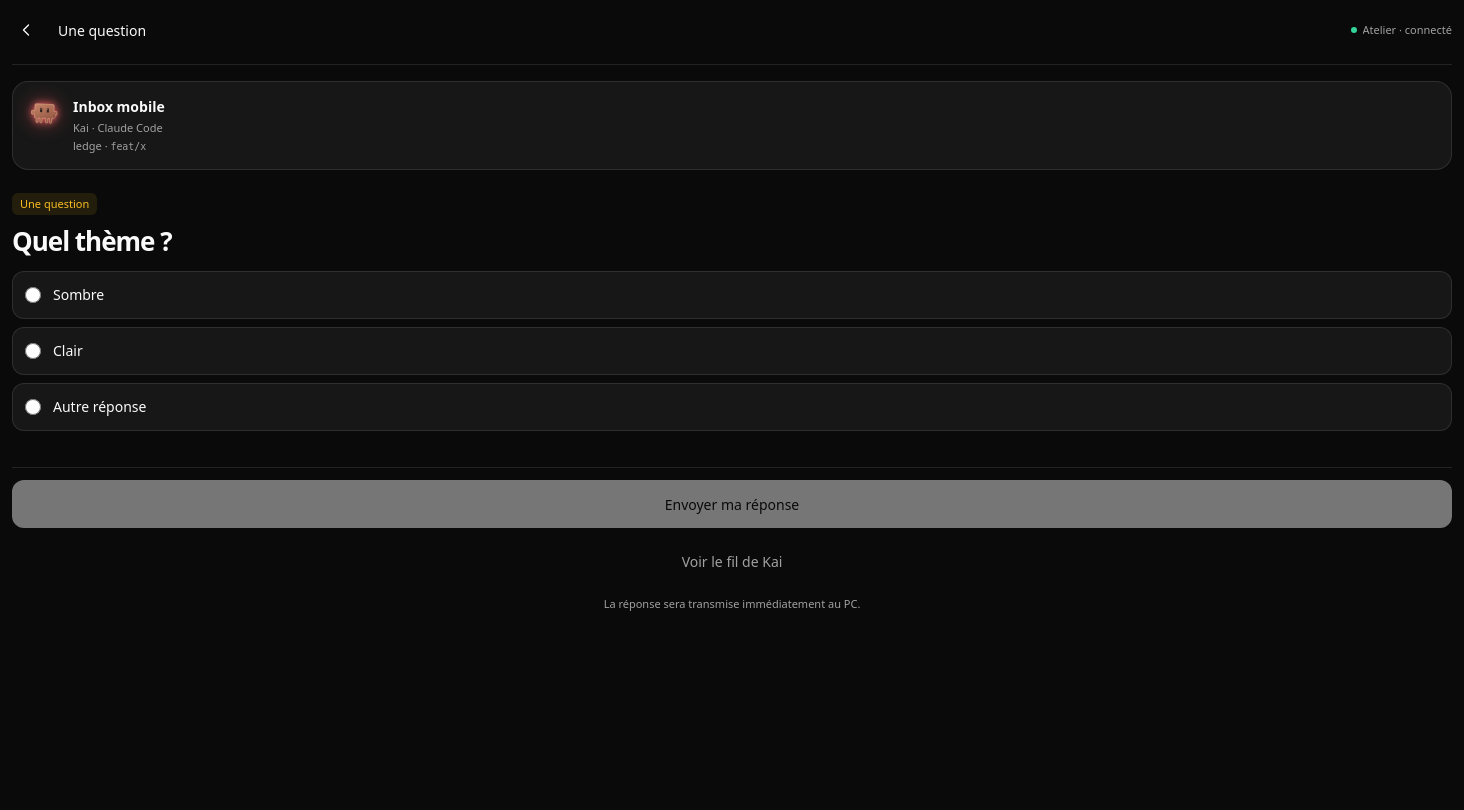
Test: the decision footer › a free answer the PC could not type says why
The image size is (1464, 810).
Step 1. Click the radio button labelled "Autre réponse" → click(33, 407), box [25, 399, 41, 415]
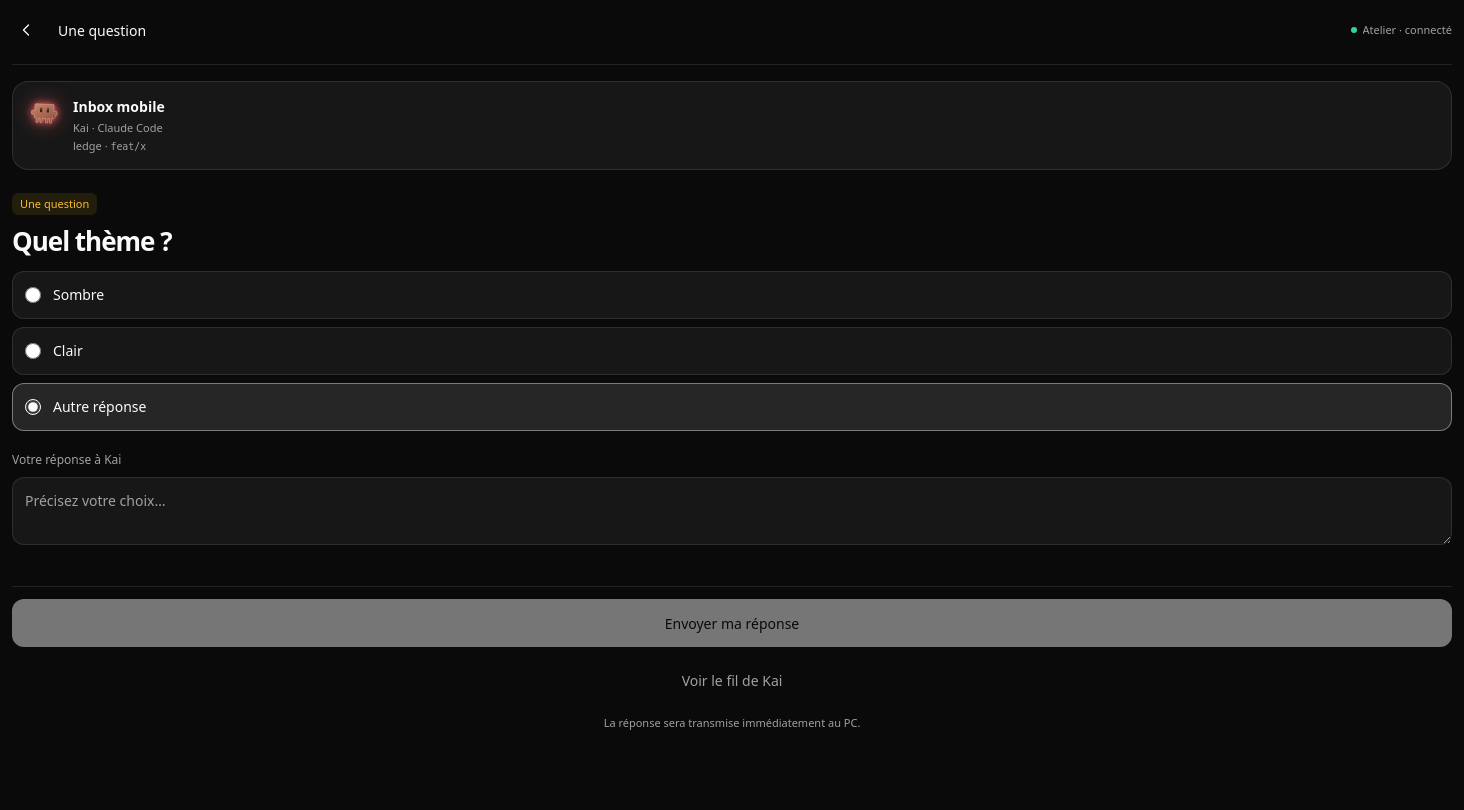
Step 2. Type "Bleu nuit" into the text box labelled "Votre réponse à Kai" → (732, 511), box [12, 477, 1452, 545]
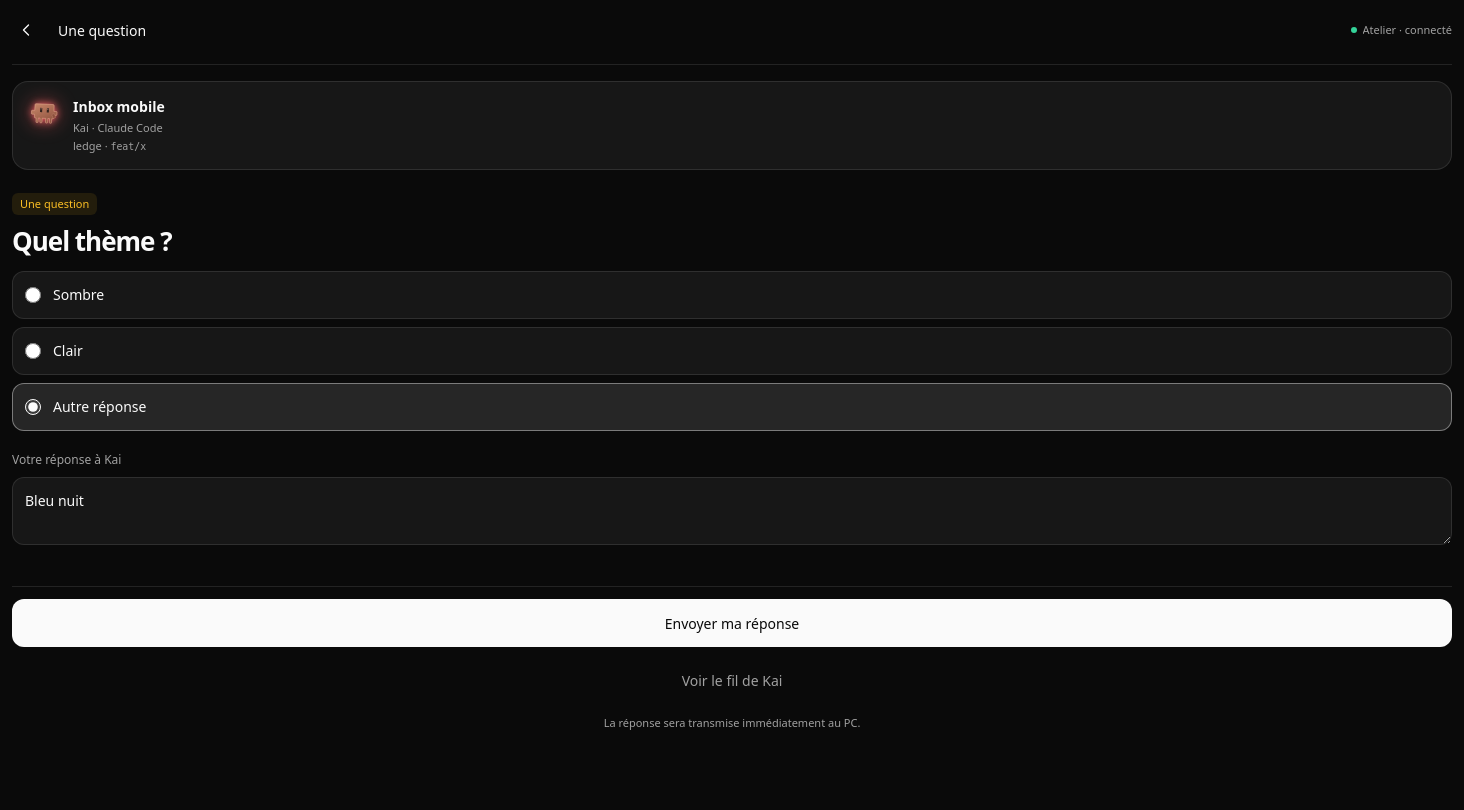
Step 3. Click the button "Envoyer ma réponse" → click(732, 623), box [12, 599, 1452, 647]
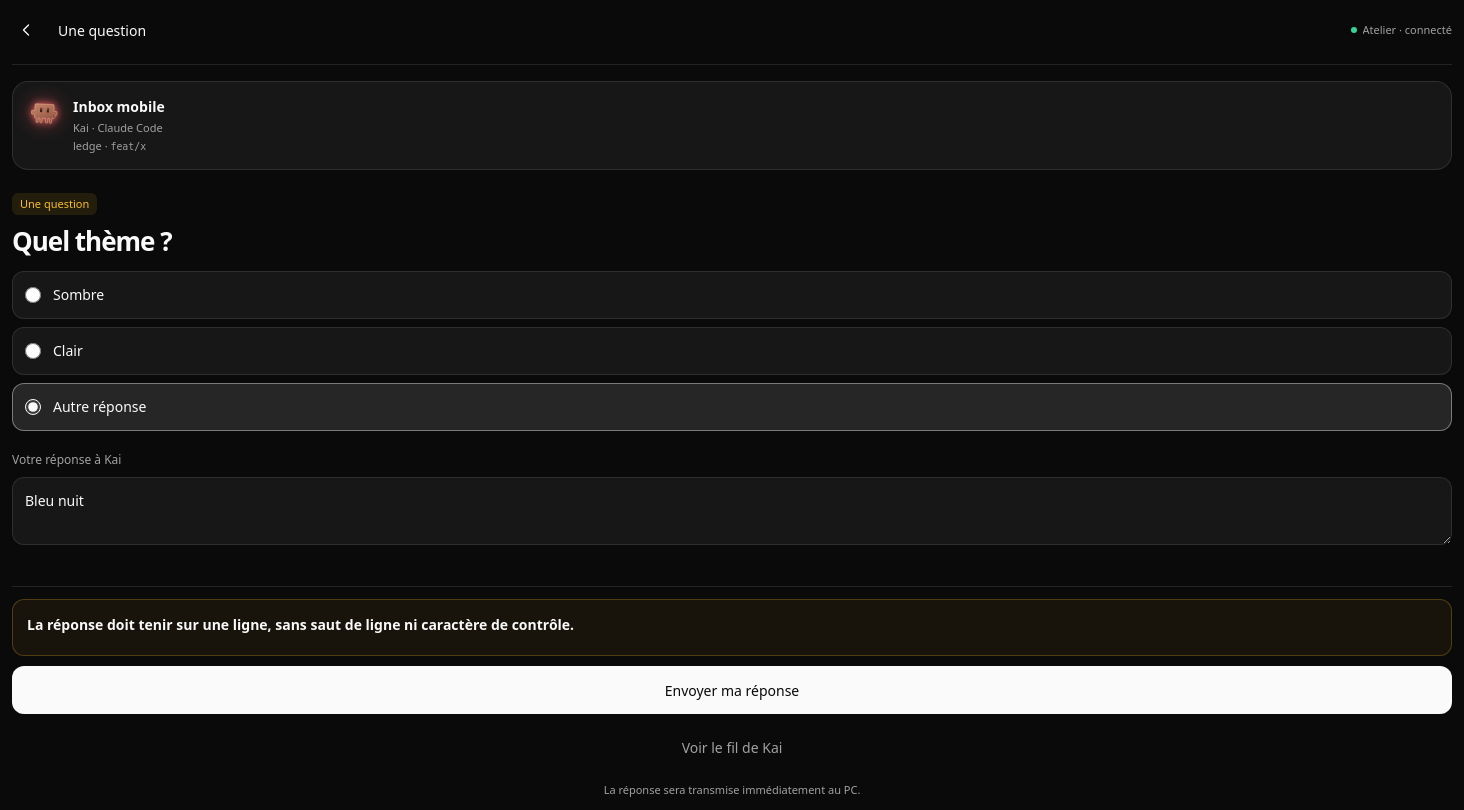
Check: the message shows "La réponse doit tenir sur une ligne", box [27, 615, 574, 634]
